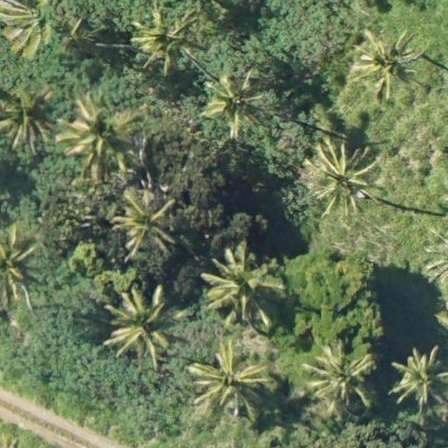palm_tree: (189, 340, 265, 421), (300, 337, 376, 418), (202, 252, 279, 327), (104, 287, 180, 362), (300, 141, 376, 213), (58, 96, 131, 168), (113, 184, 179, 258), (389, 341, 448, 407), (353, 30, 416, 91), (134, 14, 198, 72), (1, 1, 60, 61), (1, 85, 53, 152), (208, 74, 262, 127)
